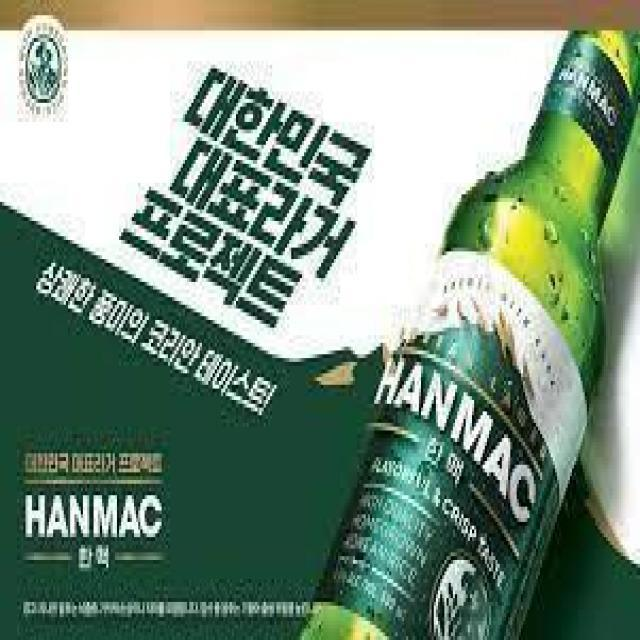beer-bottle: (287, 21, 640, 640)
